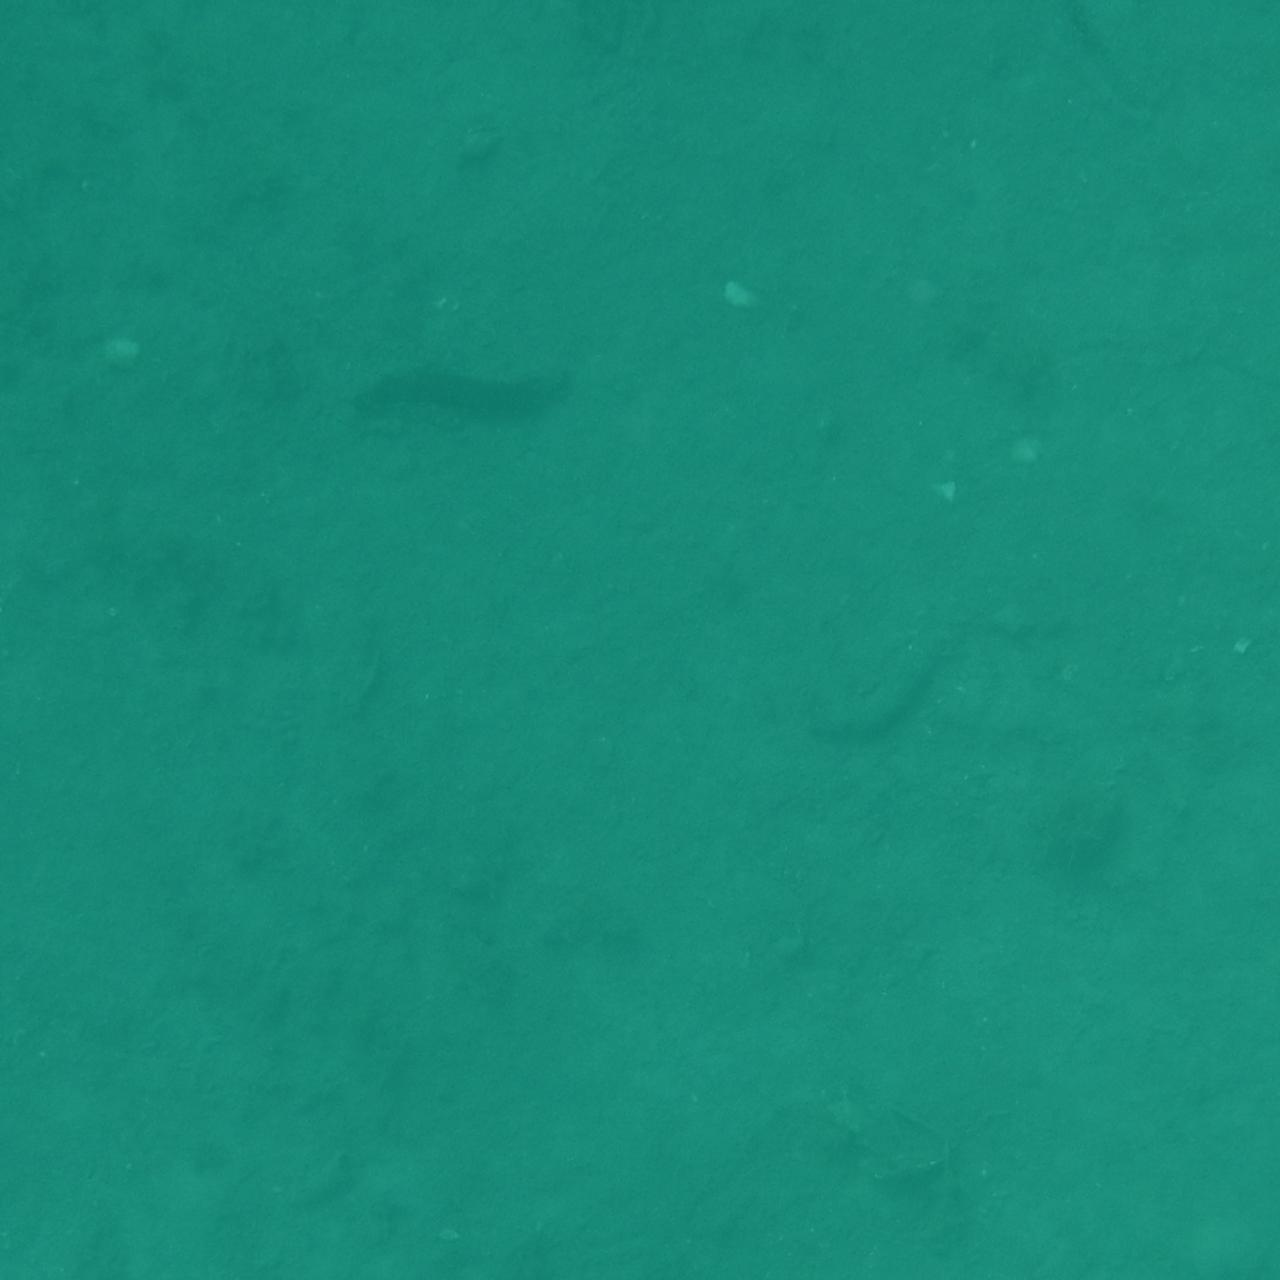Holothuria tubulosa: (342, 334, 612, 444), (799, 635, 959, 772), (0, 237, 75, 504), (1214, 784, 1280, 1039), (1207, 558, 1280, 749), (1162, 802, 1280, 914)
